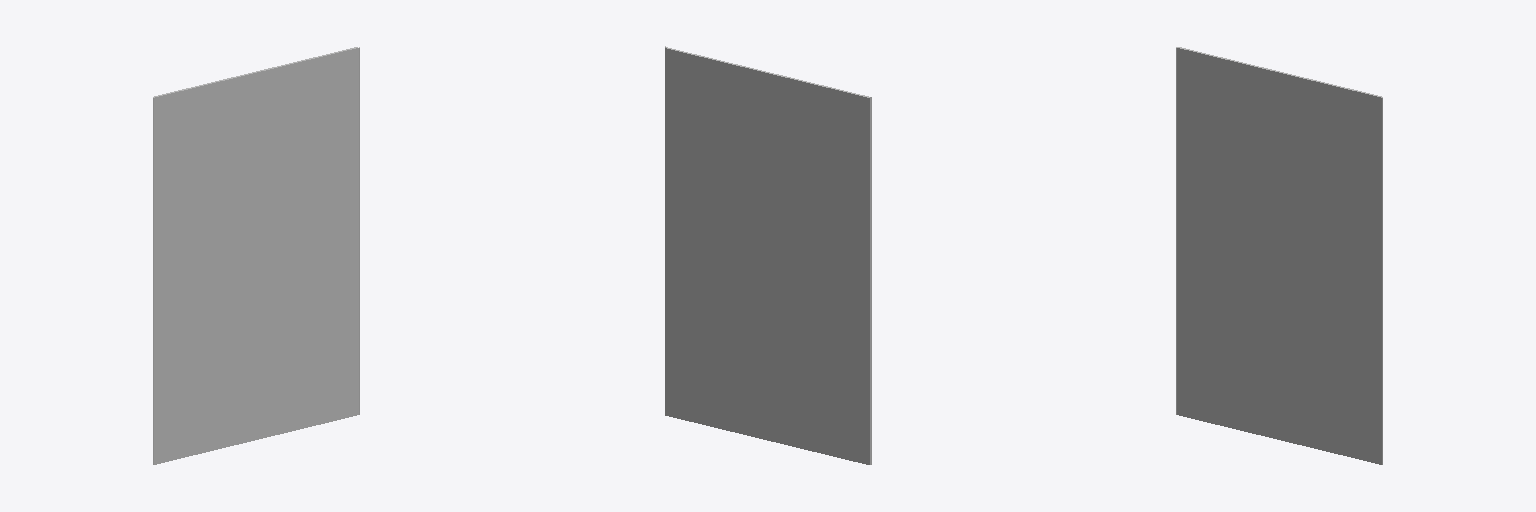
Rendered from Garlic_drop_top.obj.
The picture shows the model from 3 angles: view 1: azimuth 30°, elevation 25°; view 2: azimuth 150°, elevation 25°; view 3: azimuth 330°, elevation 25°; orthographic projection.
Parts seen in each view (by area): view 1: Bryła1; view 2: Bryła1; view 3: Bryła1.
Part boxes in pixels (left/top/right/bottom): Bryła1: left=154, top=47, right=358, bottom=464; Bryła1: left=665, top=47, right=870, bottom=464; Bryła1: left=1177, top=47, right=1381, bottom=464.
Bounding box in the file's own units: 360 × 610 × 5.27.